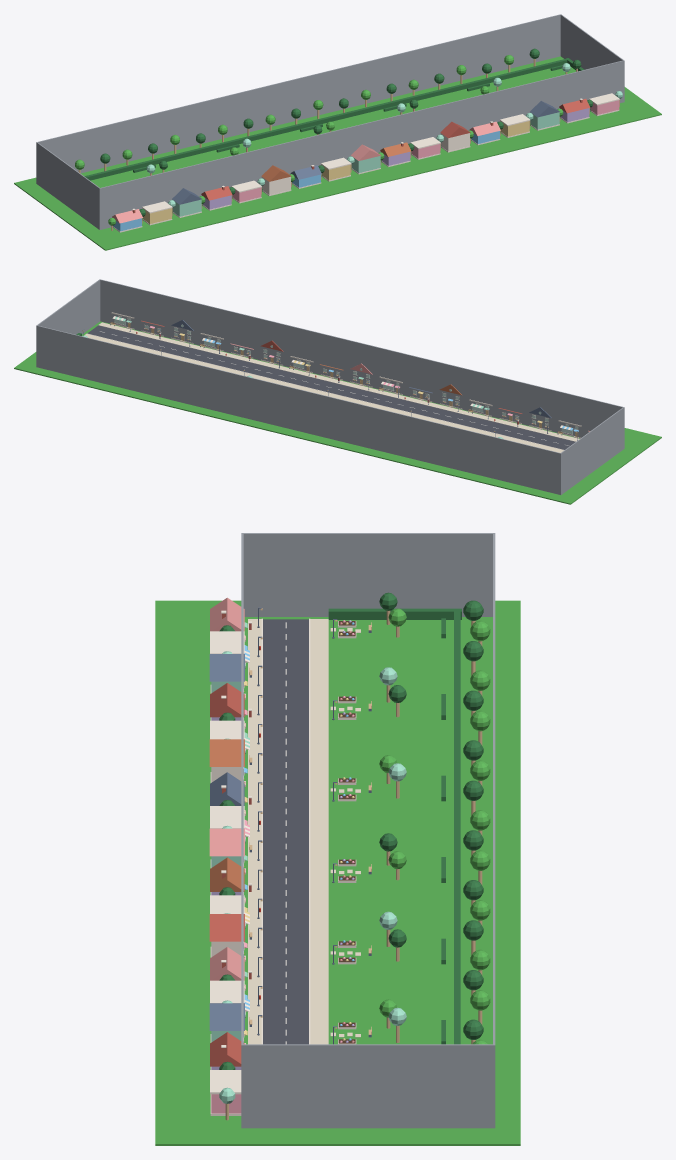
The model's file is CleanACat_Area_StreetWide.fbx.
3 renders of one model, top to bottom at view 1: azimuth 30°, elevation 25°; view 2: azimuth 150°, elevation 25°; view 3: azimuth 270°, elevation 25°, orthographic. The views are drawn at different scales.
Visible parts, largest first — view 1: CleanACat_Area_StreetWide_Barrier, CleanACat_Area_StreetWide, CleanACat_Area_StreetWide_Houses, CleanACat_Area_StreetWide_Greenery, CleanACat_Area_StreetWide_Gardens, CleanACat_Area_StreetWide_Pavement; view 2: CleanACat_Area_StreetWide_Barrier, CleanACat_Area_StreetWide, CleanACat_Area_StreetWide_Houses, CleanACat_Area_StreetWide_Pavement; view 3: CleanACat_Area_StreetWide, CleanACat_Area_StreetWide_Barrier, CleanACat_Area_StreetWide_Houses, CleanACat_Area_StreetWide_Greenery, CleanACat_Area_StreetWide_Gardens, CleanACat_Area_StreetWide_Pavement.
Part boxes in pixels (x1,y1,x2,y2): CleanACat_Area_StreetWide_Barrier: [36, 14, 624, 229]; CleanACat_Area_StreetWide: [14, 56, 661, 250]; CleanACat_Area_StreetWide_Houses: [112, 93, 619, 232]; CleanACat_Area_StreetWide_Greenery: [75, 48, 584, 180]; CleanACat_Area_StreetWide_Gardens: [133, 59, 581, 175]; CleanACat_Area_StreetWide_Pavement: [108, 91, 622, 230]; CleanACat_Area_StreetWide_Barrier: [36, 279, 624, 494]; CleanACat_Area_StreetWide: [14, 321, 661, 504]; CleanACat_Area_StreetWide_Houses: [111, 312, 589, 438]; CleanACat_Area_StreetWide_Pavement: [110, 322, 577, 440]; CleanACat_Area_StreetWide: [155, 600, 520, 1145]; CleanACat_Area_StreetWide_Barrier: [241, 533, 495, 1128]; CleanACat_Area_StreetWide_Houses: [209, 597, 249, 1115]; CleanACat_Area_StreetWide_Greenery: [328, 600, 490, 1044]; CleanACat_Area_StreetWide_Gardens: [330, 592, 445, 1044]; CleanACat_Area_StreetWide_Pavement: [219, 607, 262, 1120].
Bounding box in the file's own units: 560 × 40.93 × 159.
Materials: 1 (1 with a texture image).
